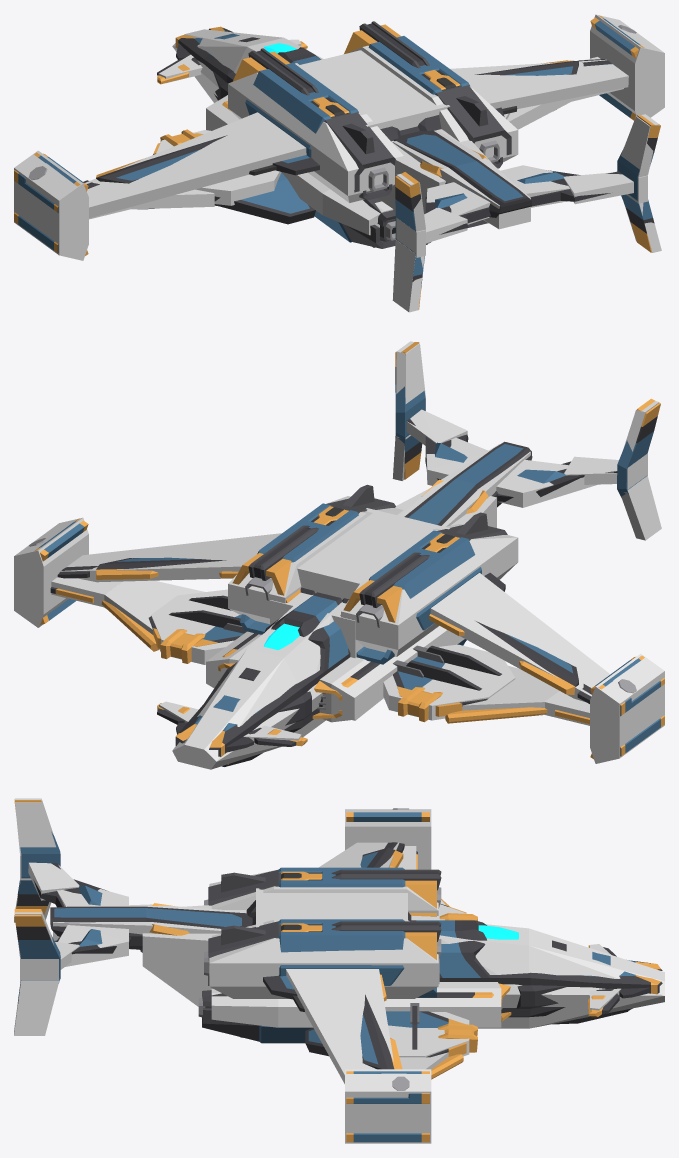
File: SM_Ship_Fighter_01.fbx
3 views of the same model, one above another, from view 1: azimuth 30°, elevation 25°; view 2: azimuth 150°, elevation 25°; view 3: azimuth 270°, elevation 25° (orthographic). The views are drawn at different scales.
Visible parts, largest first — view 1: SM_Ship_Fighter_01_ConvexHulls, SM_Ship_Fighter_01_LOD0; view 2: SM_Ship_Fighter_01_ConvexHulls, SM_Ship_Fighter_01_LOD0; view 3: SM_Ship_Fighter_01_ConvexHulls, SM_Ship_Fighter_01_LOD0.
Boxes of the visible parts, bbox=[...] form: SM_Ship_Fighter_01_ConvexHulls: bbox=[14, 14, 664, 312]; SM_Ship_Fighter_01_LOD0: bbox=[14, 15, 660, 309]; SM_Ship_Fighter_01_ConvexHulls: bbox=[14, 341, 664, 769]; SM_Ship_Fighter_01_LOD0: bbox=[28, 342, 664, 766]; SM_Ship_Fighter_01_ConvexHulls: bbox=[14, 798, 664, 1143]; SM_Ship_Fighter_01_LOD0: bbox=[14, 799, 662, 1142].
Bounding box in the file's own units: 1297 × 1333 × 372.
Materials: 1 (1 with a texture image).
